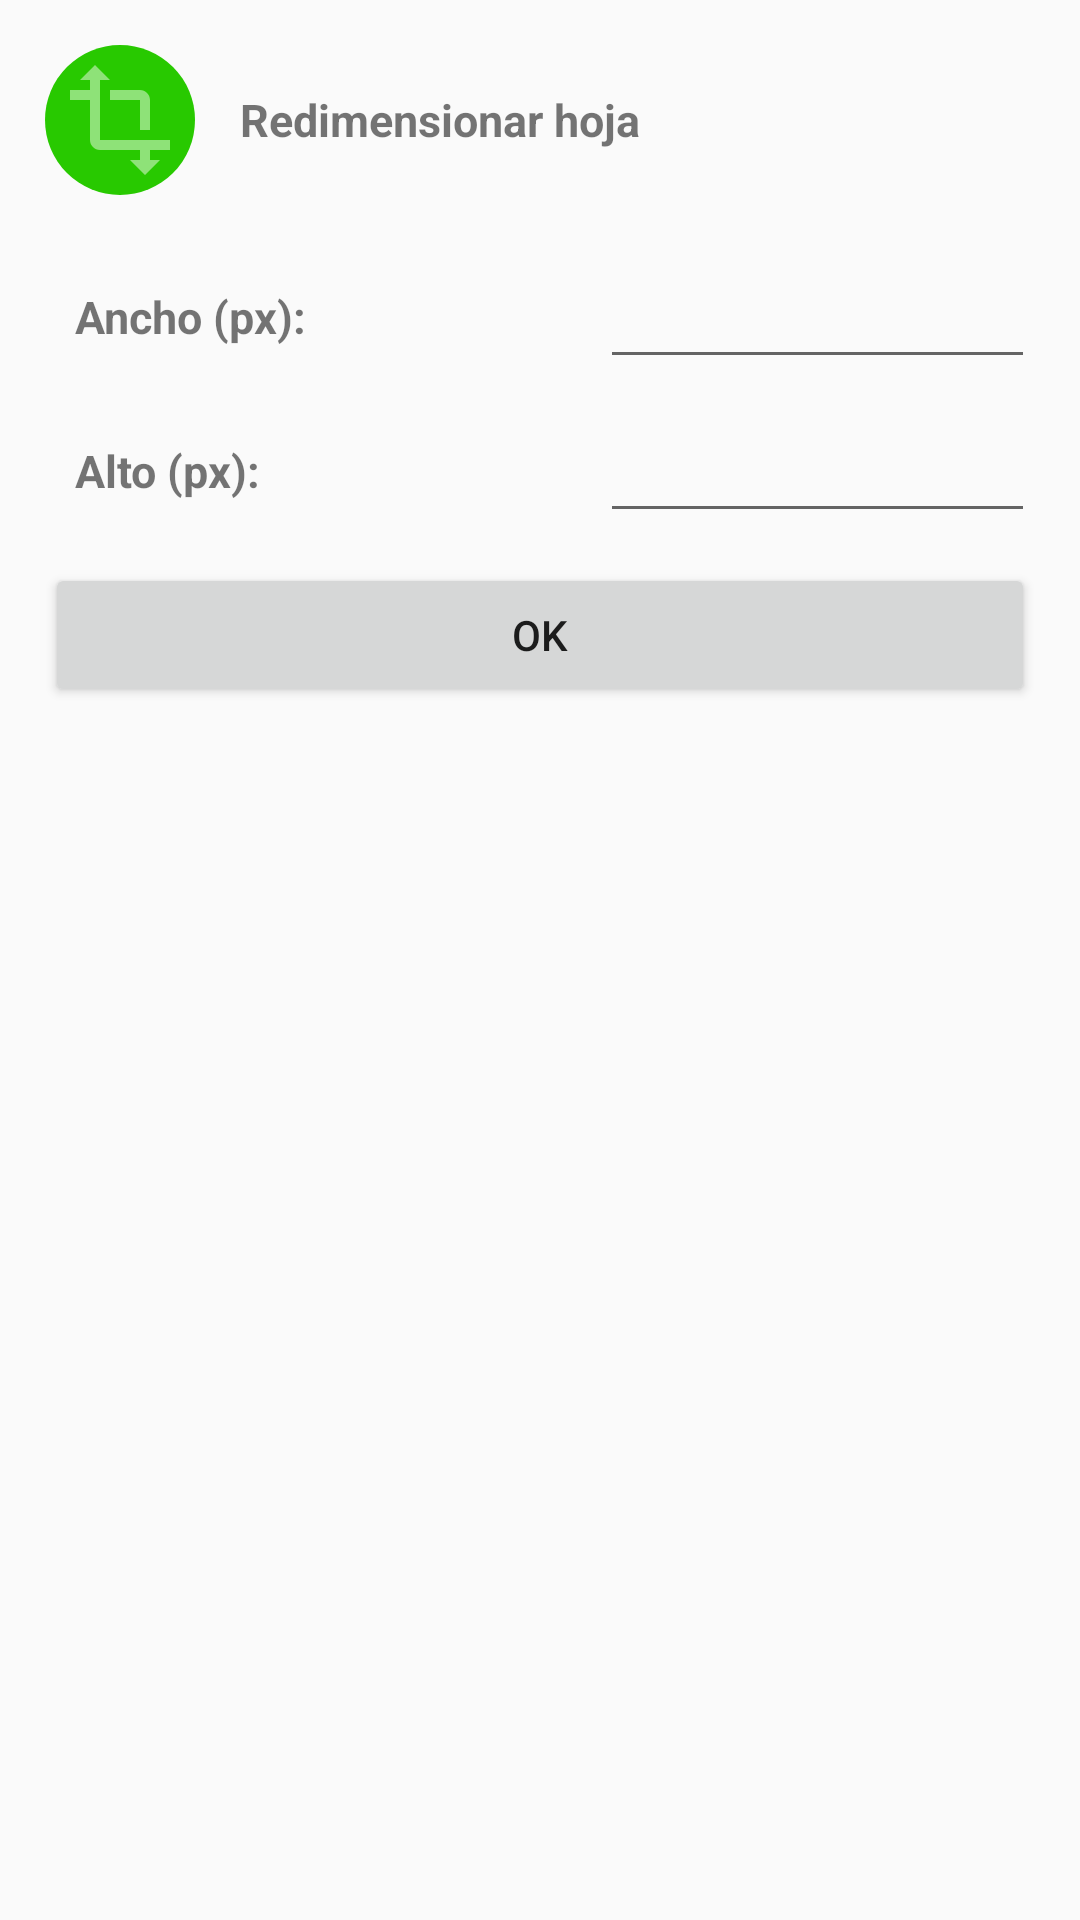

Icon click points for this 1080x1920 phone screenshot, format point (x, y):
panel titulo resize: point (120, 120)
